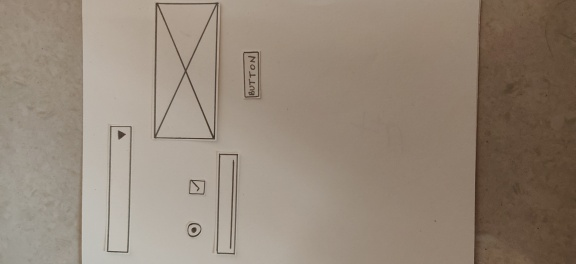button: (241, 49, 262, 101)
checkbox: (186, 177, 208, 197)
dropdown: (106, 123, 134, 254)
img: (151, 1, 218, 142)
radio: (185, 221, 203, 239)
text: (215, 151, 239, 257)
